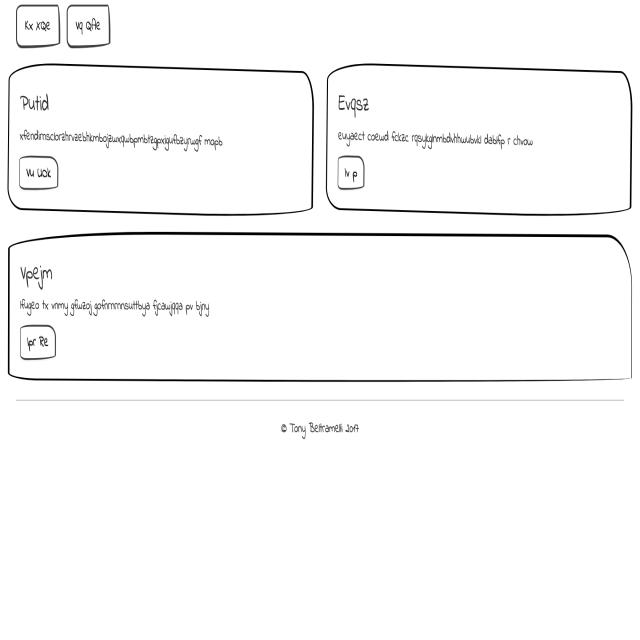Button: (18, 155, 59, 192), (16, 325, 56, 357), (337, 154, 368, 190)
Card: (9, 235, 632, 385), (325, 62, 633, 221), (7, 64, 313, 216)
Footer: (0, 392, 640, 640)
Heading 6: (334, 90, 374, 121), (16, 260, 54, 289), (16, 90, 52, 120)
Navigation Bar: (18, 6, 109, 49)
Paragraph: (15, 126, 225, 158), (333, 122, 533, 155), (15, 293, 214, 323)
